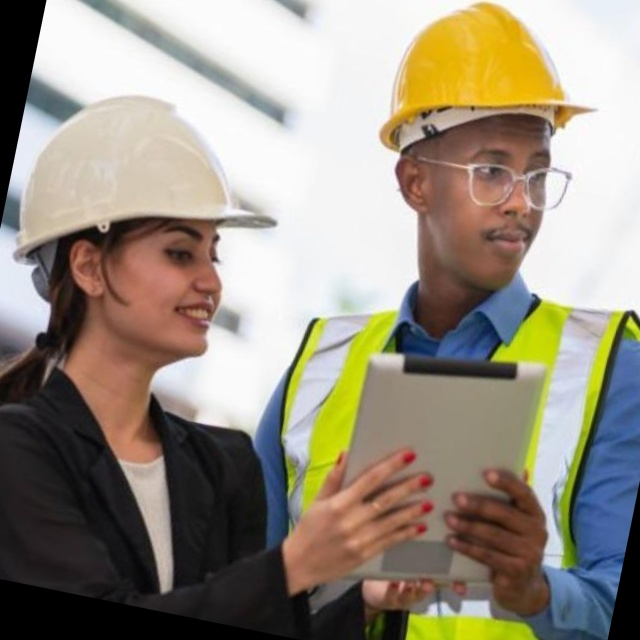Con_Casco: (0, 77, 299, 378), (352, 0, 615, 302)
Con_Chaleco: (235, 251, 640, 640)
Sin_Chaleco: (0, 345, 299, 631)
